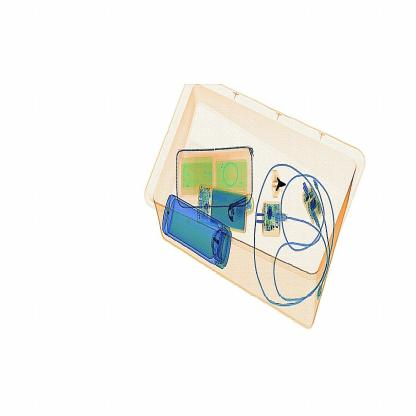gun: (258, 159, 292, 204)
